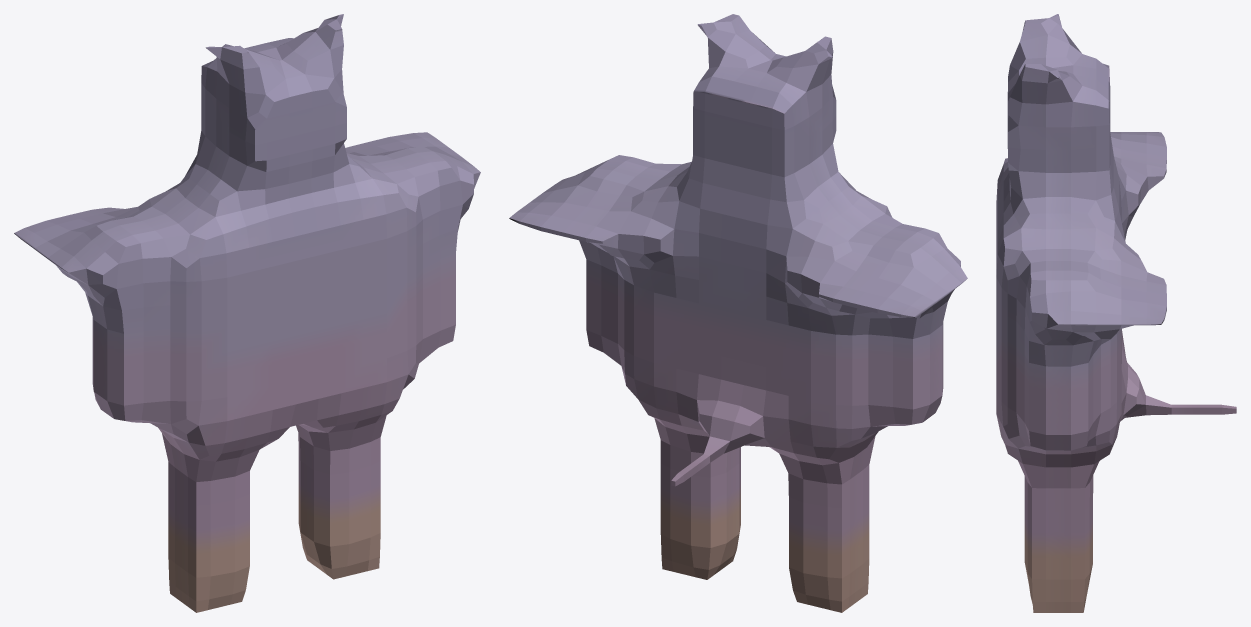
The model's file is balrog.glb.
The picture shows the model from 3 angles, left to right: view 1: azimuth 30°, elevation 25°; view 2: azimuth 150°, elevation 25°; view 3: azimuth 270°, elevation 25°; orthographic projection. The views are drawn at different scales.
Parts seen in each view (by area): view 1: geometry_0; view 2: geometry_0; view 3: geometry_0.
Part boxes in pixels (x1,y1,x2,y2): geometry_0: (14,14,480,612); geometry_0: (509,14,967,612); geometry_0: (996,14,1236,612).
Bounding box in the file's own units: 0.7553 × 0.963 × 0.3981.
Materials: 1 (1 with a texture image).
